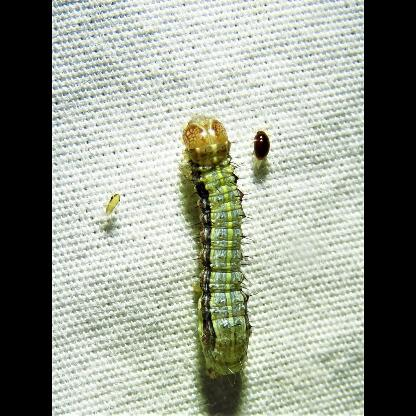Fall Armyworm Larvae: (176, 110, 268, 416)
